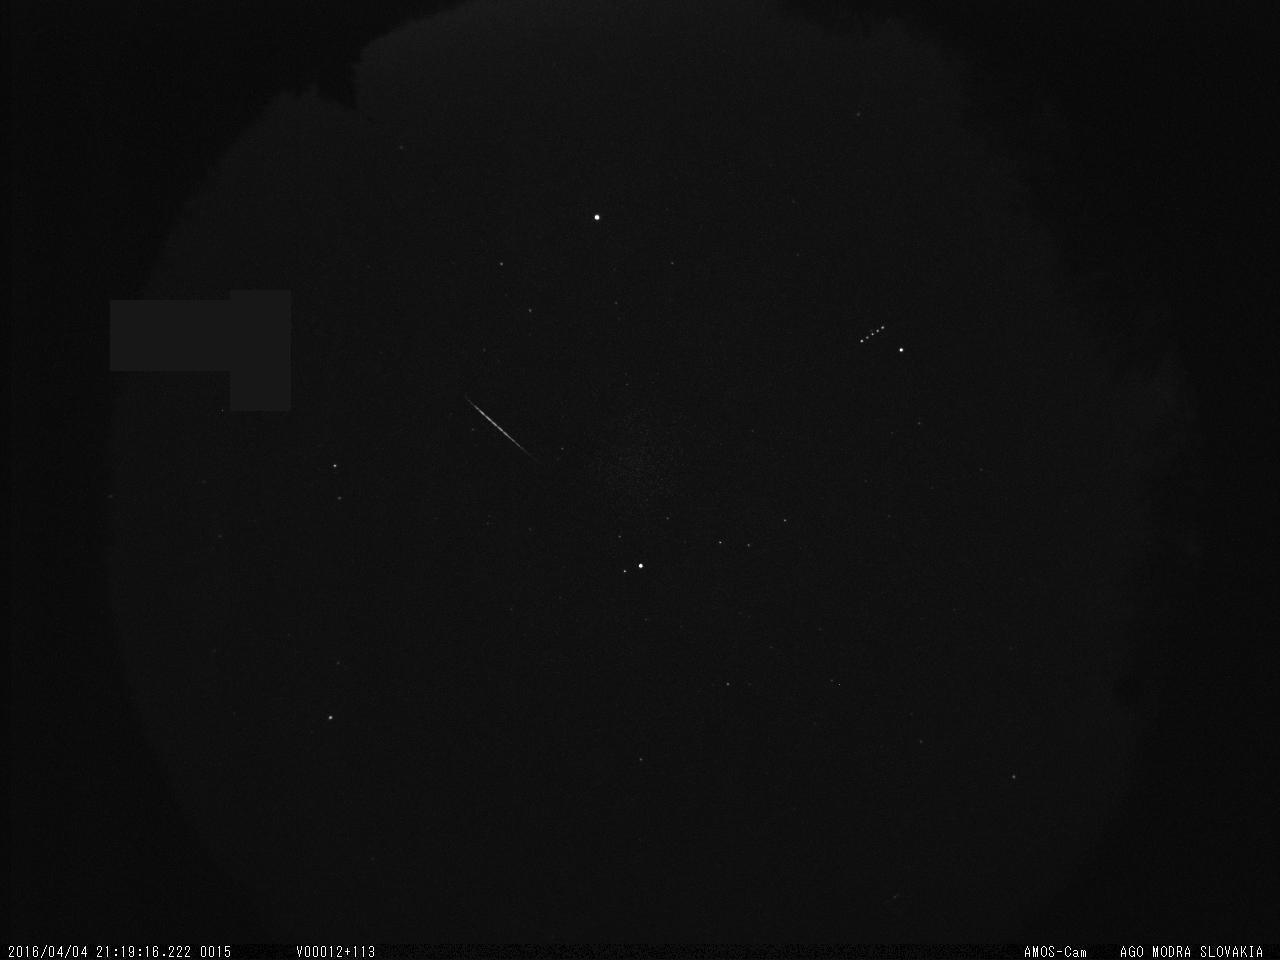Meteor: (453, 385, 537, 463)
